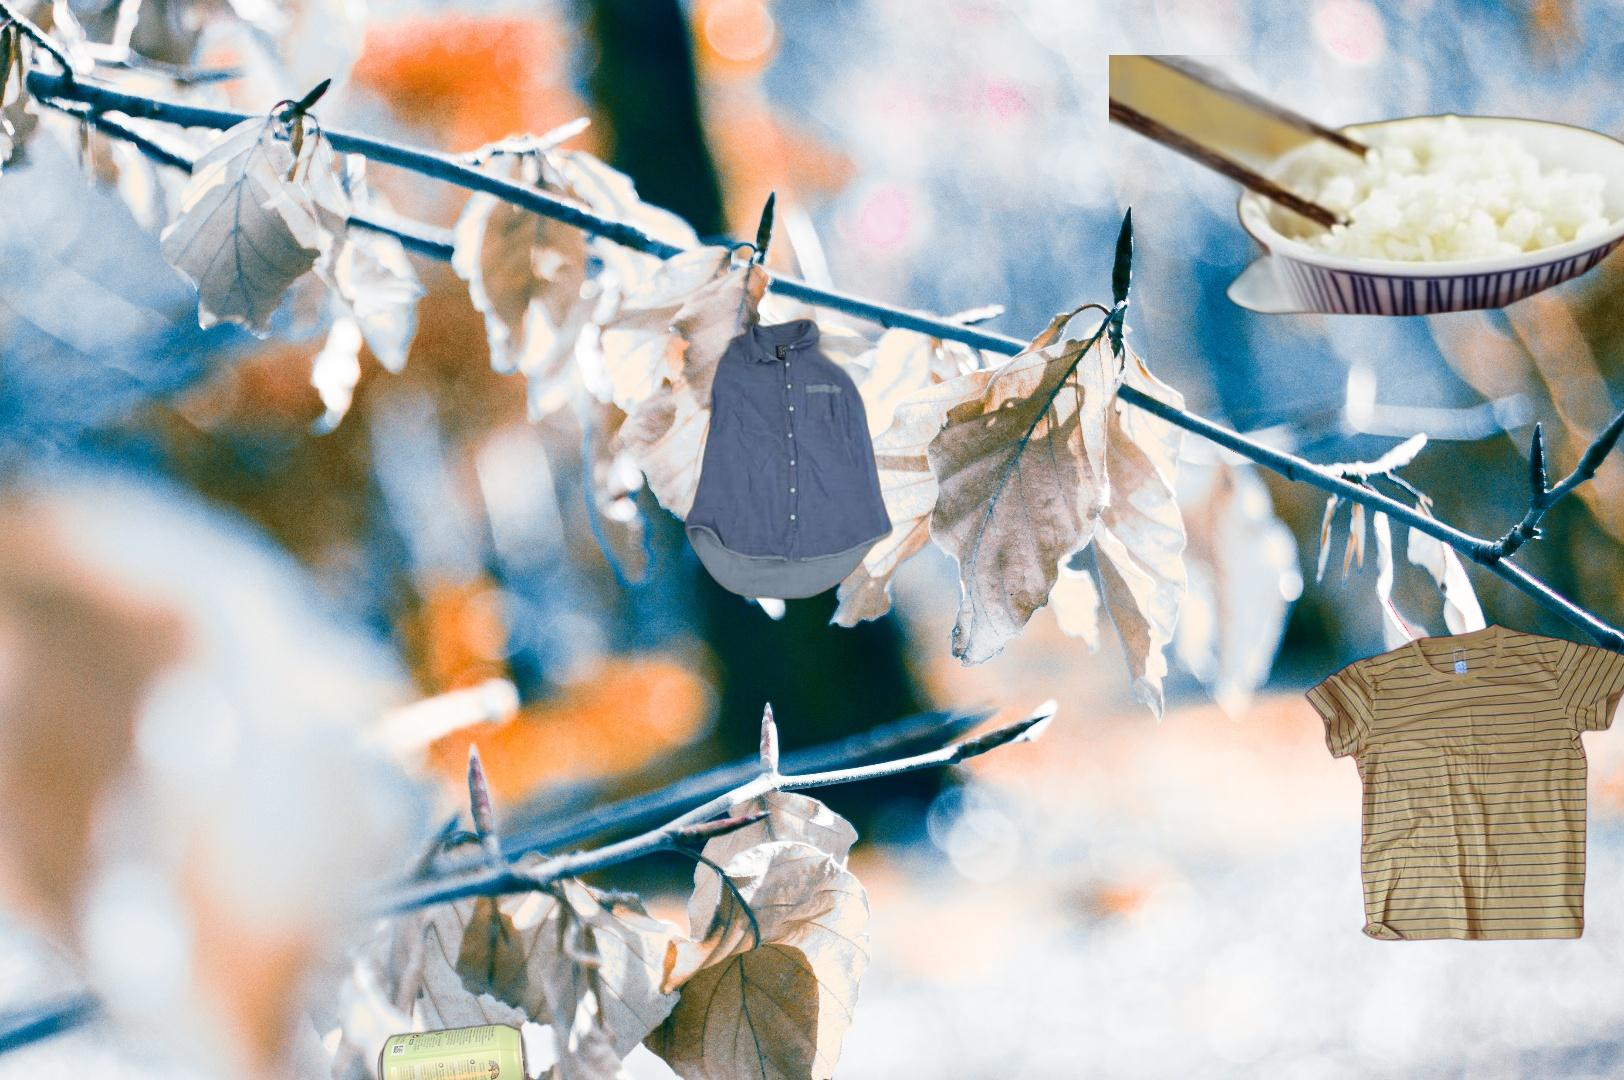biological: (1110, 55, 1624, 319)
clothes: (1302, 620, 1624, 944), (681, 315, 895, 605)
metal-cans: (373, 1019, 557, 1080)
